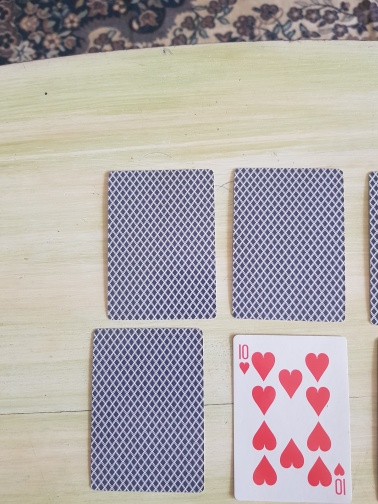ten: (231, 333, 354, 504)
